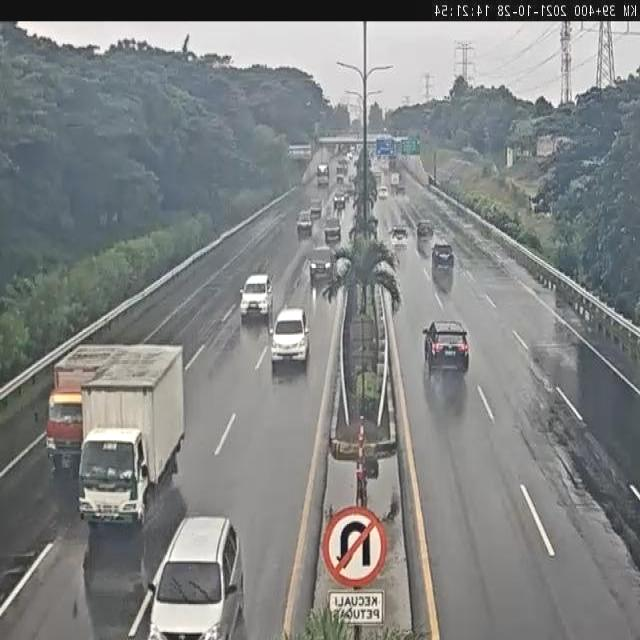Car: (152, 509, 238, 640), (424, 321, 469, 372), (271, 310, 308, 365), (239, 274, 273, 318), (426, 241, 461, 272), (386, 220, 412, 254), (310, 245, 334, 280), (322, 214, 346, 240), (307, 196, 326, 218), (296, 212, 313, 231), (332, 190, 348, 210)
Truck: (75, 337, 190, 526), (40, 323, 109, 470)
